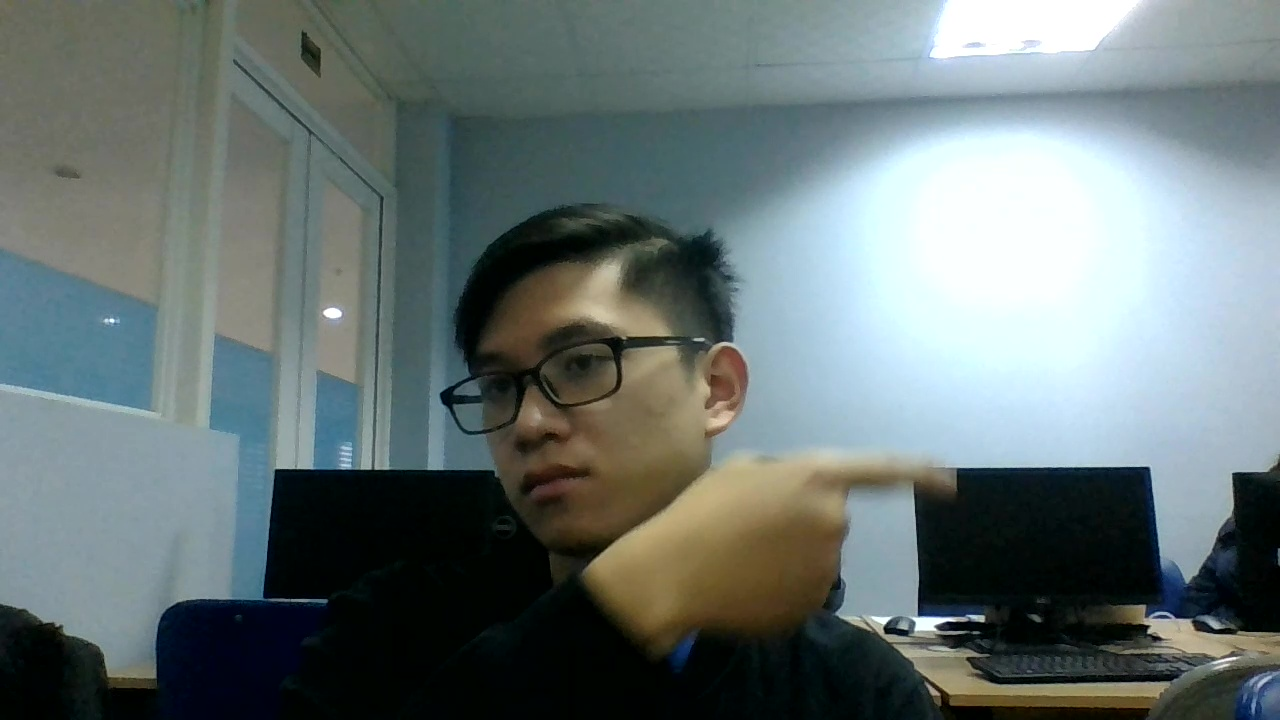left: (650, 442, 960, 618)
